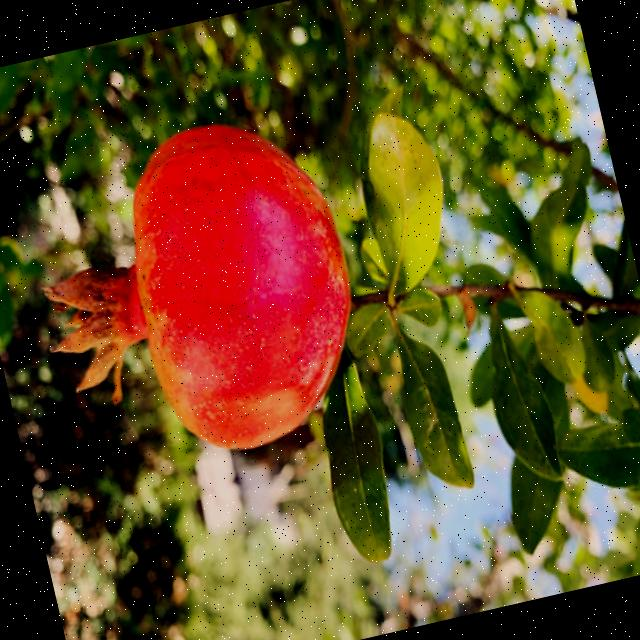Ripe: (17, 99, 384, 490)
